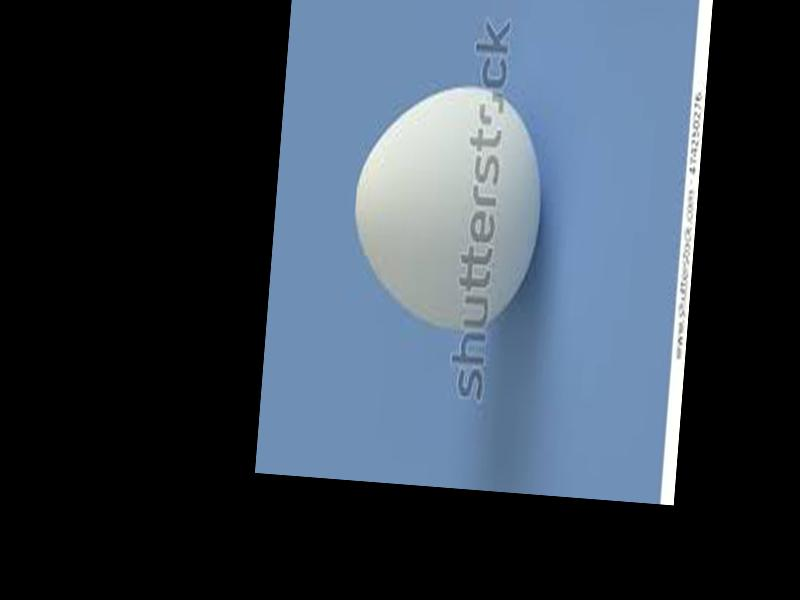Eggs: (346, 77, 551, 336)
